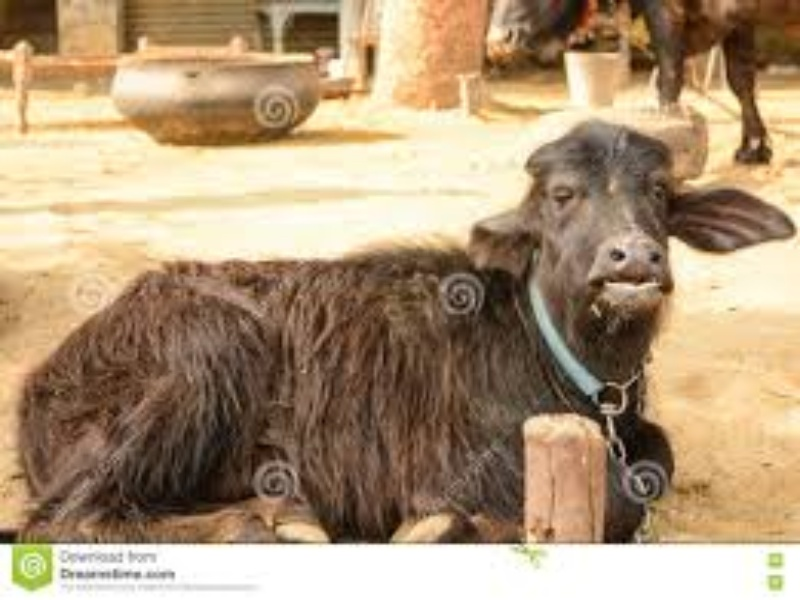buffalo: (99, 123, 799, 499)
